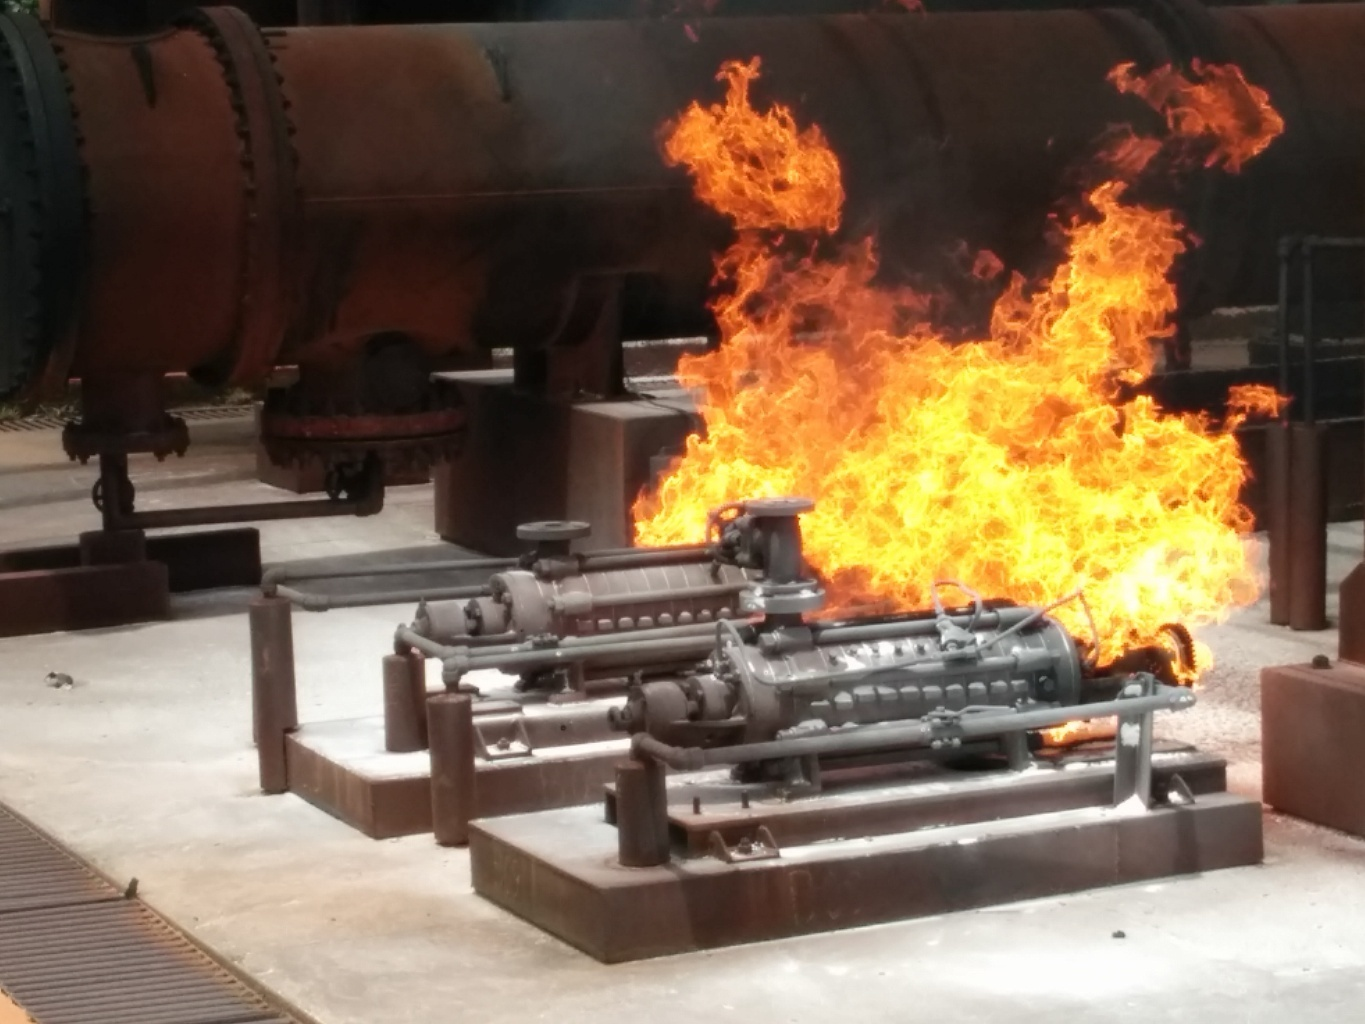fire: (623, 27, 1314, 672)
